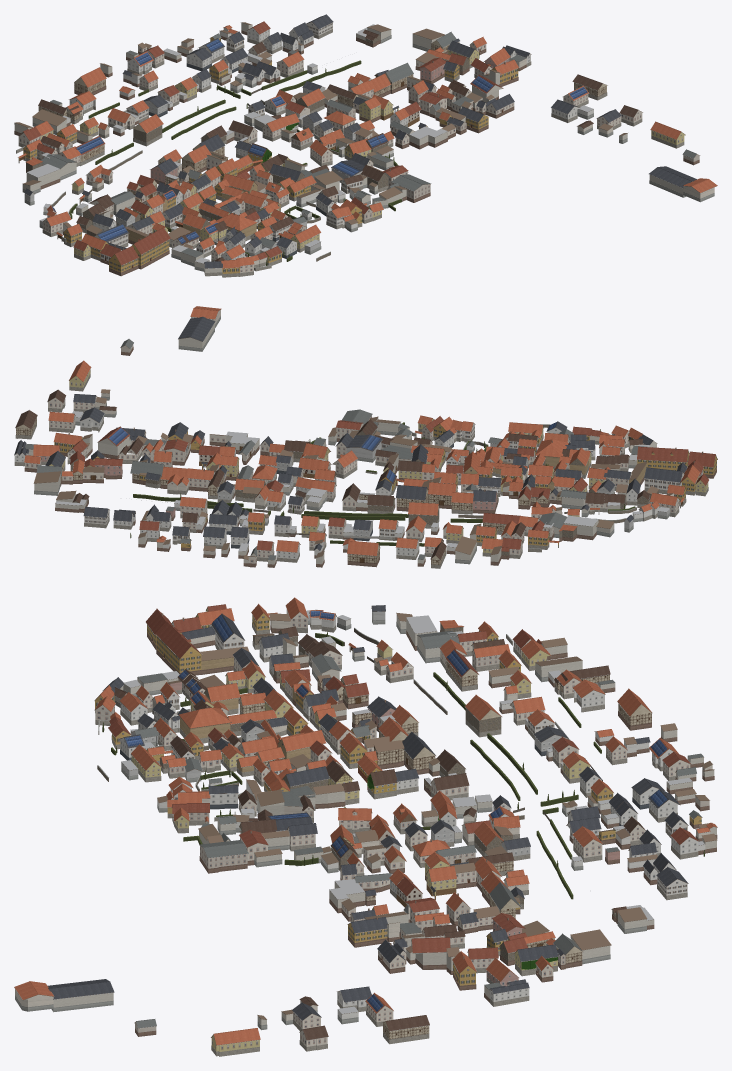
Rendered from village_center.glb.
The picture shows the model from 3 angles, top to bottom: view 1: azimuth 30°, elevation 25°; view 2: azimuth 150°, elevation 25°; view 3: azimuth 270°, elevation 25°; orthographic projection. The views are drawn at different scales.
Visible parts, largest first — view 1: village_center; view 2: village_center; view 3: village_center.
Part boxes in pixels (bbox=[...]): village_center: bbox=[14, 14, 717, 277]; village_center: bbox=[14, 306, 717, 568]; village_center: bbox=[14, 597, 717, 1056].
Bounding box in the file's own units: 447 × 43.76 × 339.
44 materials, 41 textured.
